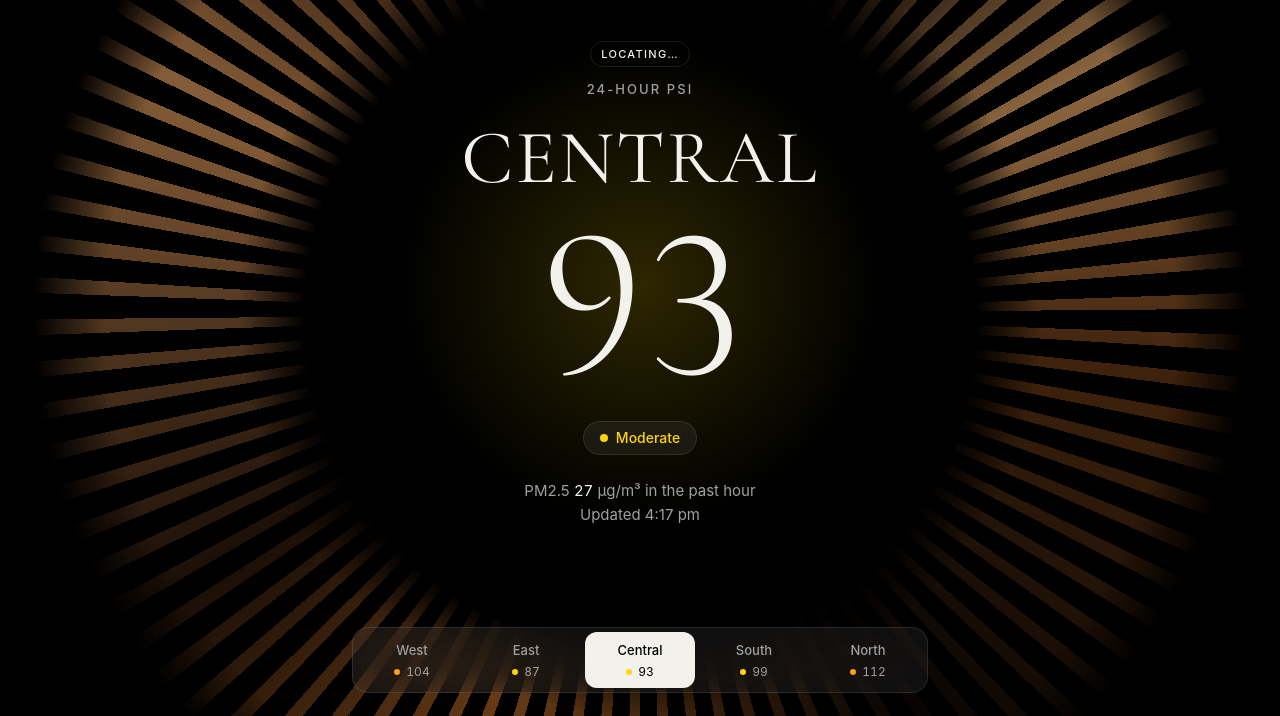
Test: PsiApp › keeps a region the user picked even if location arrives later
expect the panel is shown: met, box x1=461 y1=40 x2=819 y2=527
Click the tab "West 104": x=412, y=660 x1=357 y1=632 x2=467 y2=688
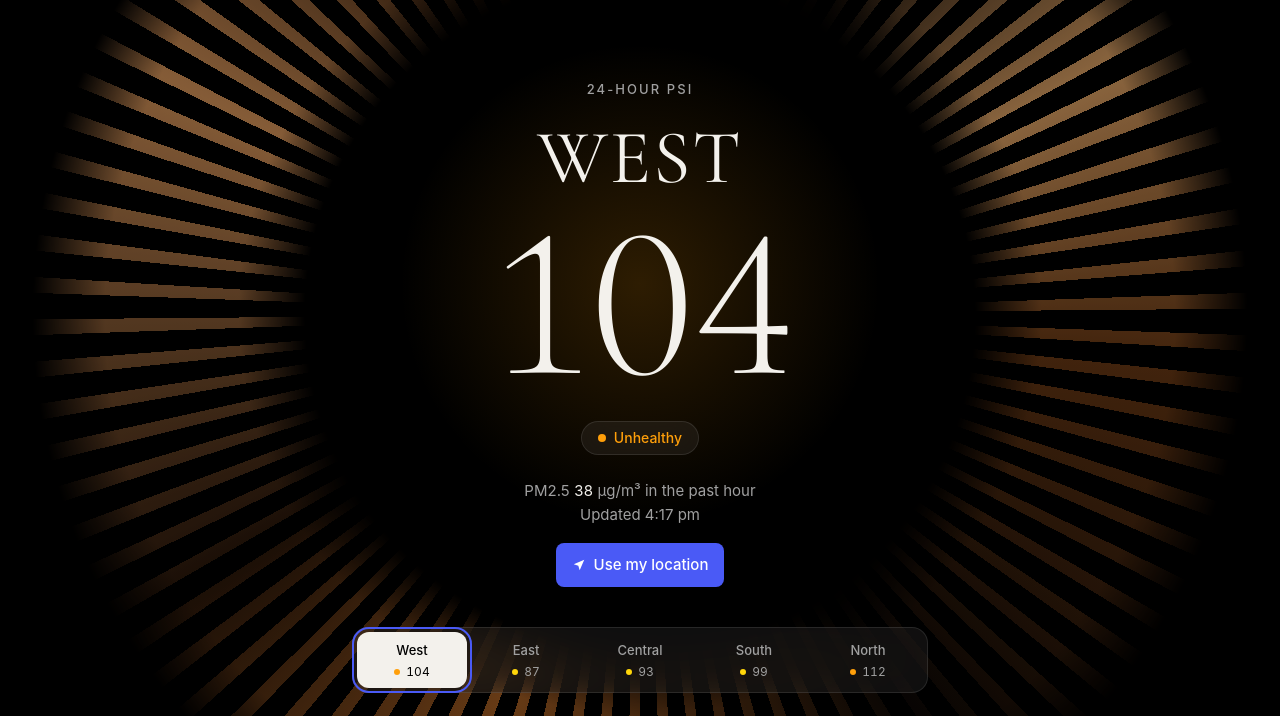
expect the heading reads "West": met, box x1=537 y1=112 x2=743 y2=204
Click the button "Use my location": x=640, y=565 x1=556 y1=543 x2=724 y2=587
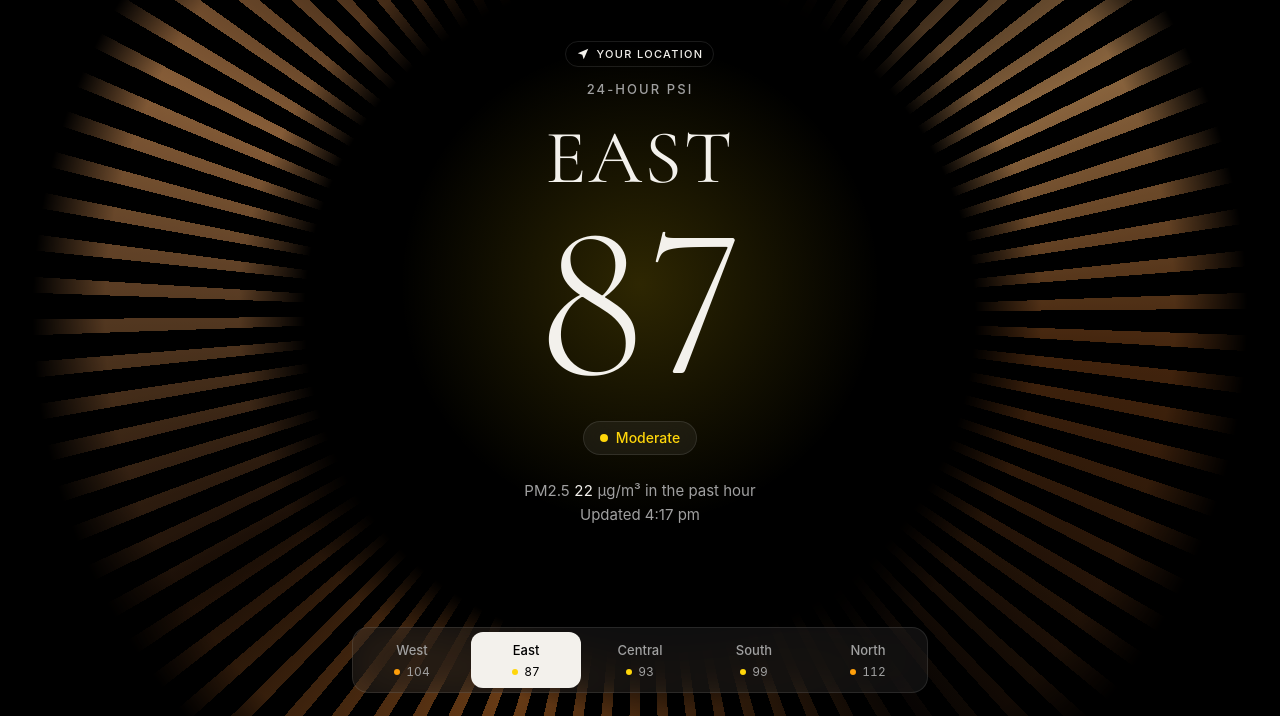
expect the heading reads "East": met, box x1=546 y1=112 x2=734 y2=204
expect the text "Your location" is shown: met, box x1=566 y1=41 x2=714 y2=67
